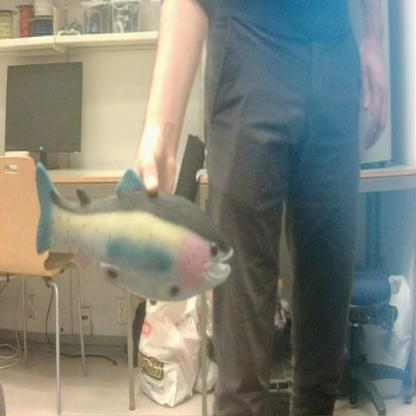rubberfish: (28, 152, 237, 304)
